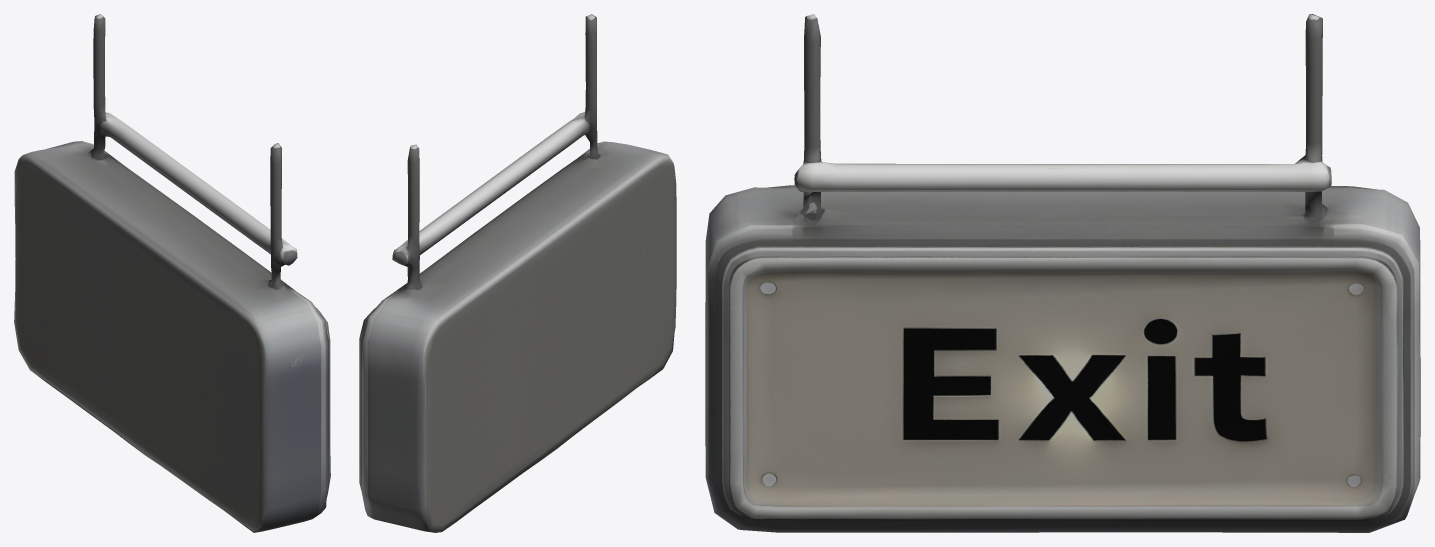
File: señal+de+salida+3d.fbx
The picture shows the model from 3 angles, left to right: view 1: azimuth 30°, elevation 25°; view 2: azimuth 150°, elevation 25°; view 3: azimuth 270°, elevation 25°; orthographic projection. The views are drawn at different scales.
Visible parts, largest first — view 1: tripo_node_dafc7fce; view 2: tripo_node_dafc7fce; view 3: tripo_node_dafc7fce.
Part boxes in pixels (bbox=[...]): tripo_node_dafc7fce: bbox=[14, 14, 330, 532]; tripo_node_dafc7fce: bbox=[359, 14, 676, 532]; tripo_node_dafc7fce: bbox=[705, 14, 1420, 532].
Bounding box in the file's own units: 0.1731 × 0.7892 × 0.9999.
Materials: 1 (1 with a texture image).
